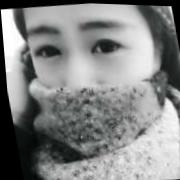WRONG: (21, 2, 172, 157)
